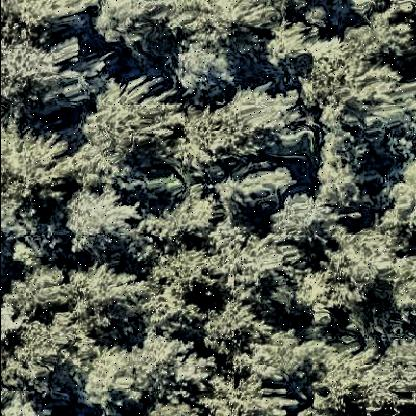tree-top: (181, 93, 301, 176), (306, 38, 400, 126), (82, 76, 180, 159), (80, 336, 174, 416), (328, 233, 404, 327), (2, 315, 76, 409), (62, 261, 144, 342), (1, 30, 82, 111), (2, 125, 71, 200), (317, 134, 377, 220), (63, 189, 141, 255), (213, 155, 295, 213), (96, 3, 183, 54), (359, 340, 415, 416), (170, 41, 238, 101), (195, 303, 267, 358), (151, 243, 219, 301), (265, 276, 337, 330), (197, 373, 286, 416), (273, 189, 333, 251), (8, 268, 68, 320), (264, 21, 314, 75)
